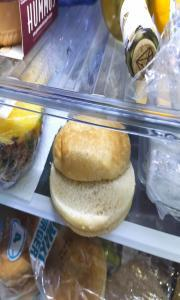Humus: (0, 0, 57, 61)
Pina: (0, 98, 46, 183)
